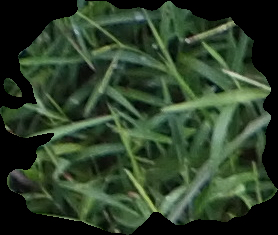grass: (1, 1, 277, 233)
